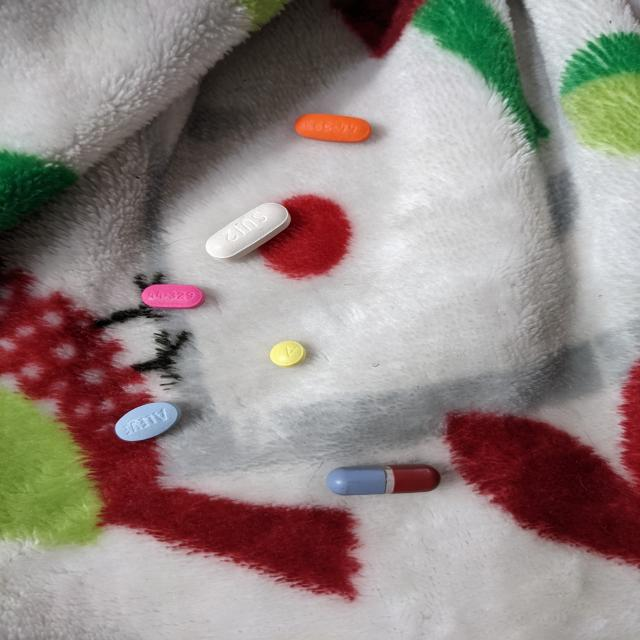non-organic waste: (204, 202, 292, 263), (325, 463, 443, 498), (113, 400, 183, 442), (293, 113, 373, 143), (141, 283, 207, 310), (269, 340, 307, 369)
